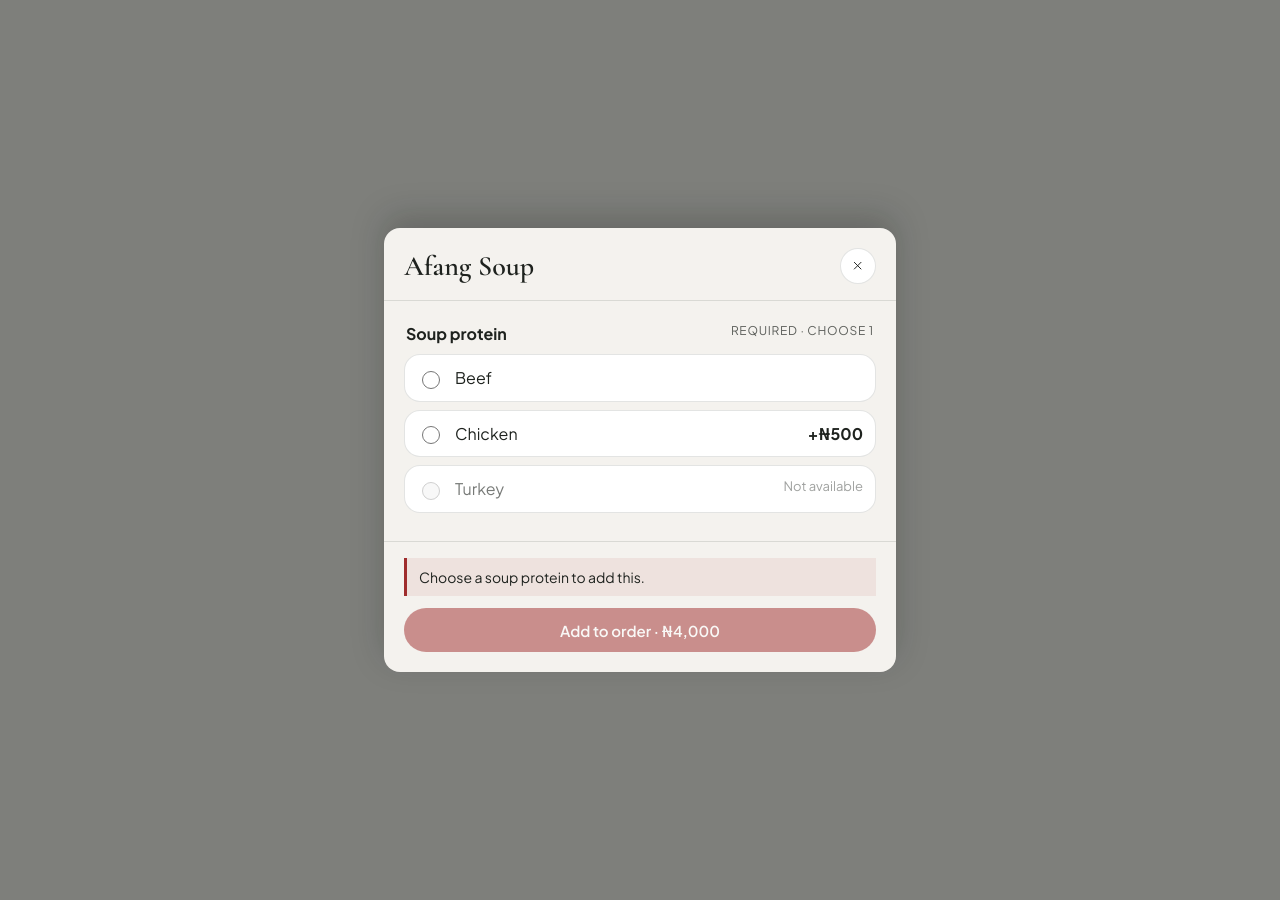
Test: OptionSheet › keeps Add disabled with a clear message until the required choice is made
Expected: the button with test id "add-with-options" is disabled, [404,608,876,652]
Expected: the text with test id "choice-needed" reads "Choose a soup protein to add this.", [419,568,645,586]
Click the radio button labelled "Chicken +₦500" at (431, 435), box [422,426,440,444]
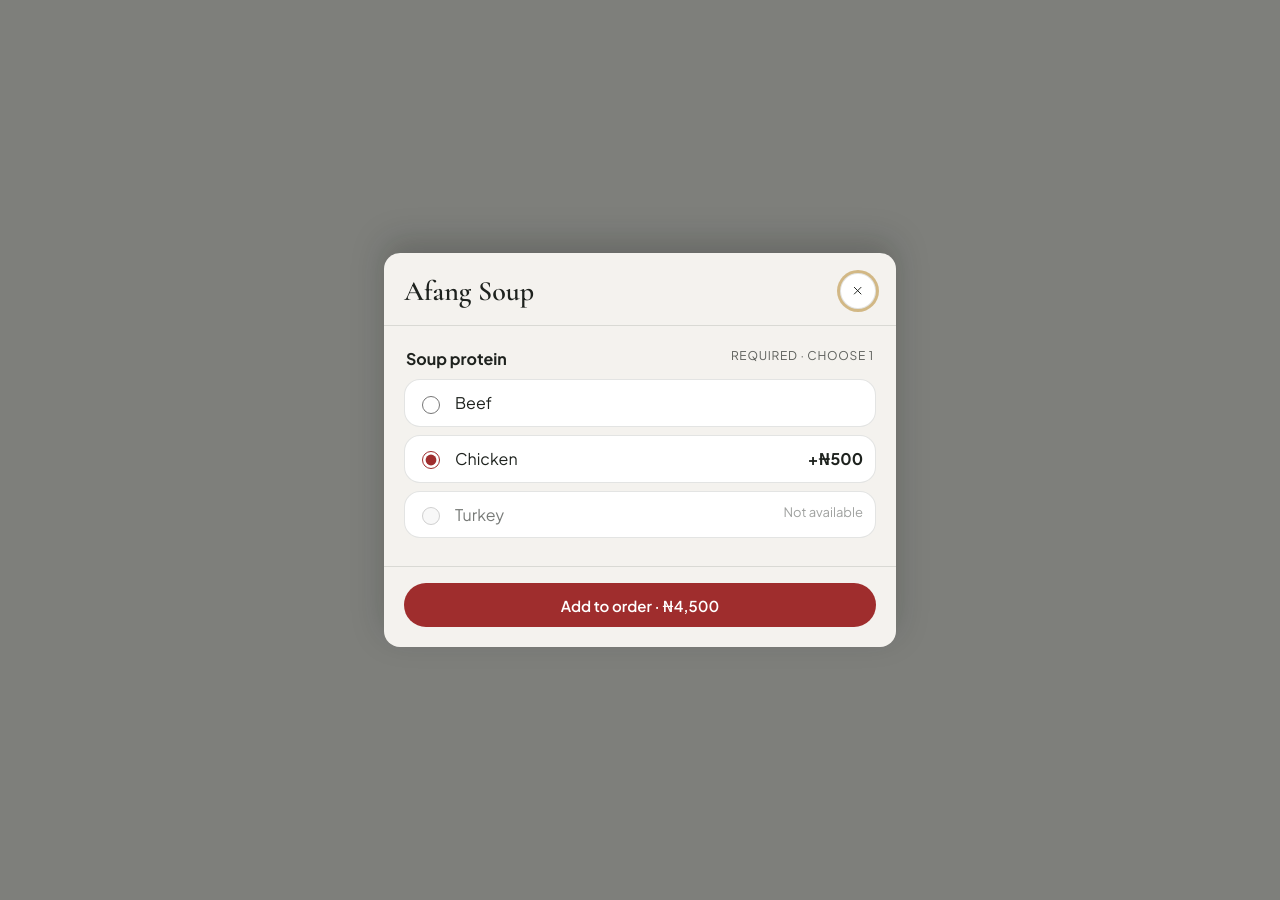
Expected: the button with test id "add-with-options" is enabled, [404,583,876,627]
